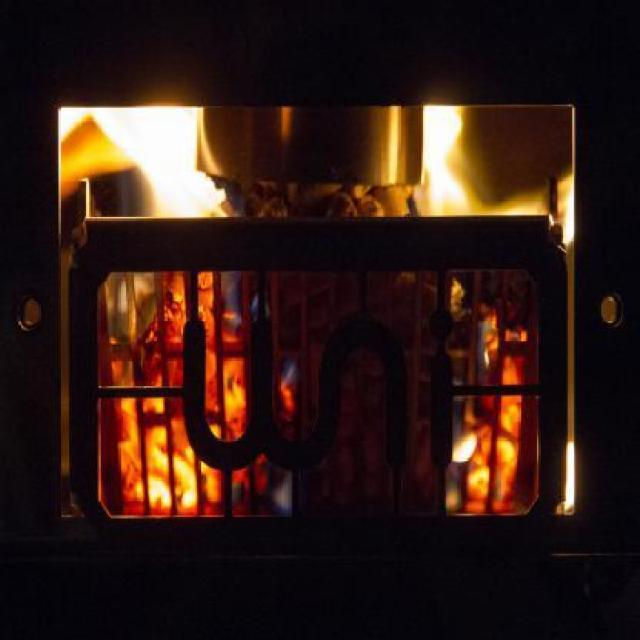Fire: (106, 278, 262, 516), (448, 278, 530, 512), (420, 105, 482, 218), (160, 108, 213, 218), (96, 108, 166, 152), (62, 154, 140, 186), (488, 188, 560, 218), (56, 104, 90, 146), (273, 360, 295, 420), (563, 442, 577, 515), (140, 149, 163, 183), (456, 440, 476, 465)
